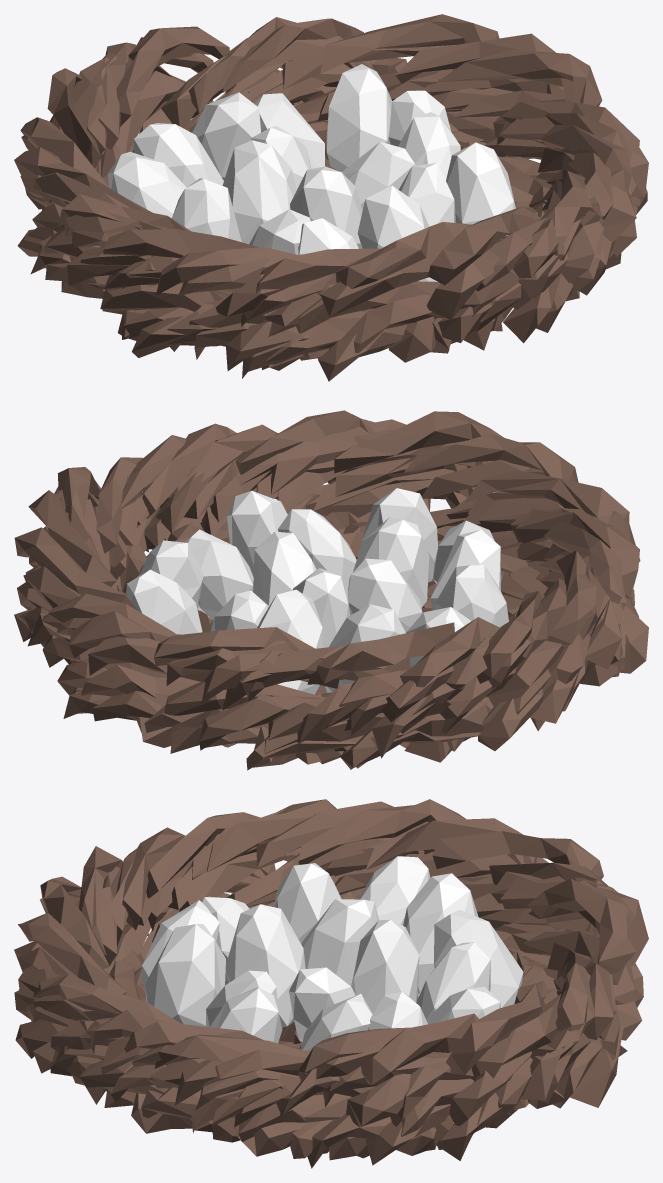
File: Nest_11.fbx
The picture shows the model from 3 angles, top to bottom: view 1: azimuth 30°, elevation 25°; view 2: azimuth 150°, elevation 25°; view 3: azimuth 270°, elevation 25°; orthographic projection.
Visible parts, largest first — view 1: Nest_11_LOD0; view 2: Nest_11_LOD0; view 3: Nest_11_LOD0.
Part boxes in pixels (<box>): Nest_11_LOD0: <box>14,14,648,381</box>; Nest_11_LOD0: <box>14,410,648,770</box>; Nest_11_LOD0: <box>14,799,648,1168</box>.
Size of what is drawn, in the model's own units: 85.5 by 24.08 by 84.93.
